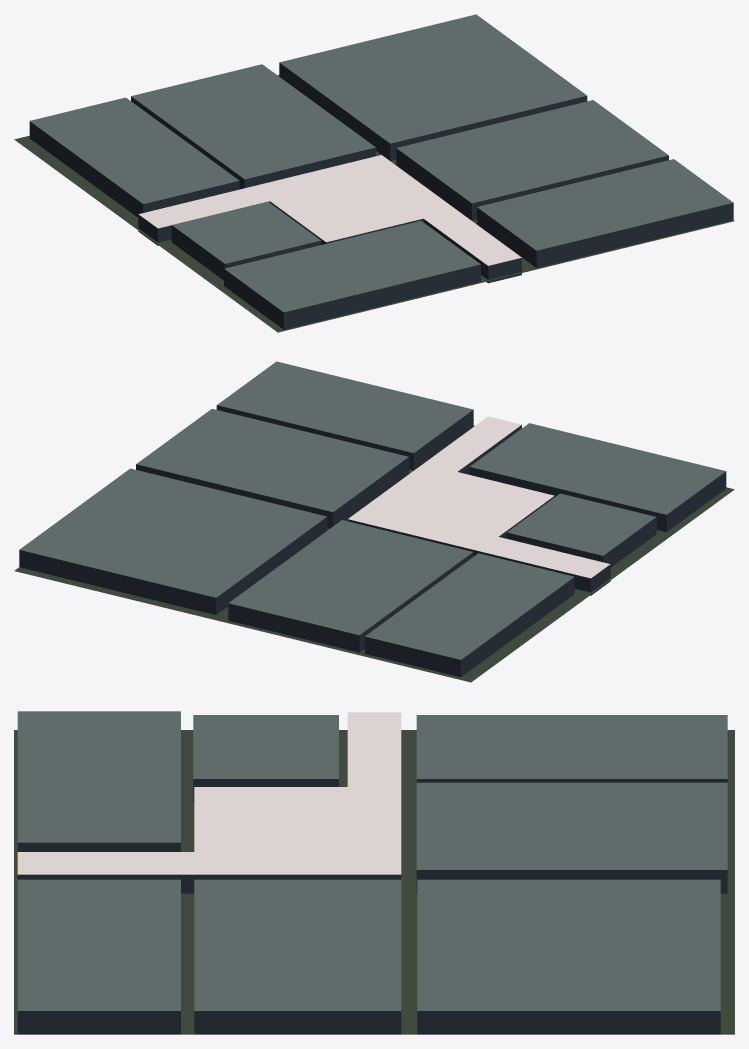
File: Environment_Floor_7_DetailCorner.fbx
The picture shows the model from 3 angles, top to bottom: view 1: azimuth 30°, elevation 25°; view 2: azimuth 150°, elevation 25°; view 3: azimuth 270°, elevation 25°; orthographic projection. The views are drawn at different scales.
Parts seen in each view (by area): view 1: Floor_7_DetailCorner; view 2: Floor_7_DetailCorner; view 3: Floor_7_DetailCorner.
Boxes of the visible parts, <box> form: Floor_7_DetailCorner: <box>14,14,734,332</box>; Floor_7_DetailCorner: <box>14,361,734,682</box>; Floor_7_DetailCorner: <box>14,711,734,1034</box>.
Size of the model in its own units: 400 by 17.32 by 400.
